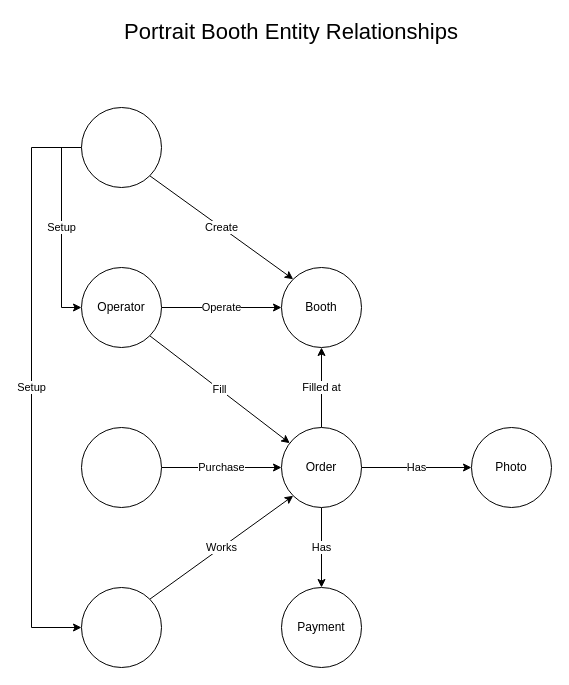
Image size: 569x685. Some labels were removed from this diagram. Here are the shapes that lost their labels. From the top down, the centre of each, then its label:
(121,147): Manager
(121,467): Customer
(121,627): Processor
